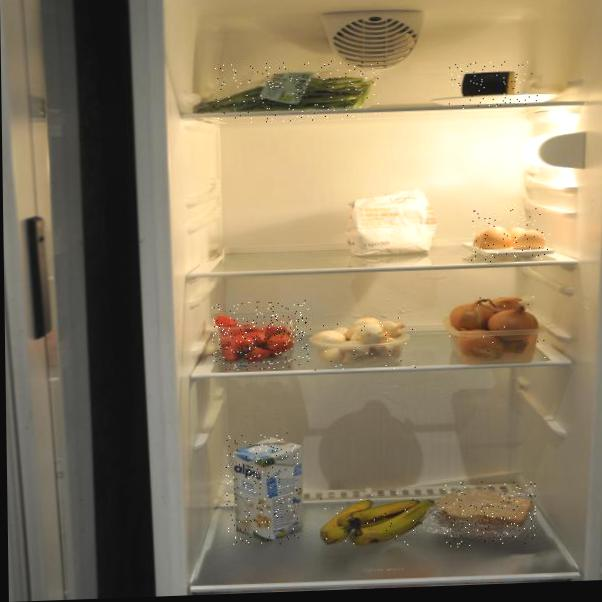banana: (313, 491, 431, 550)
bread: (441, 479, 536, 548)
cheese: (448, 60, 538, 109)
eggs: (470, 208, 551, 264)
milk: (226, 432, 301, 546)
mushroom: (310, 312, 417, 372)
onion: (448, 291, 547, 362)
spinach: (213, 59, 379, 124)
tomatoes: (212, 300, 310, 371)
